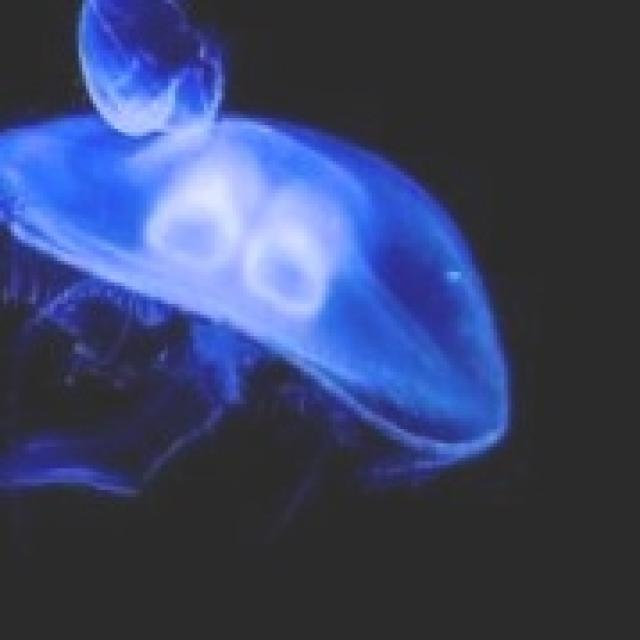Moon-jellyfish: (0, 0, 511, 486)
